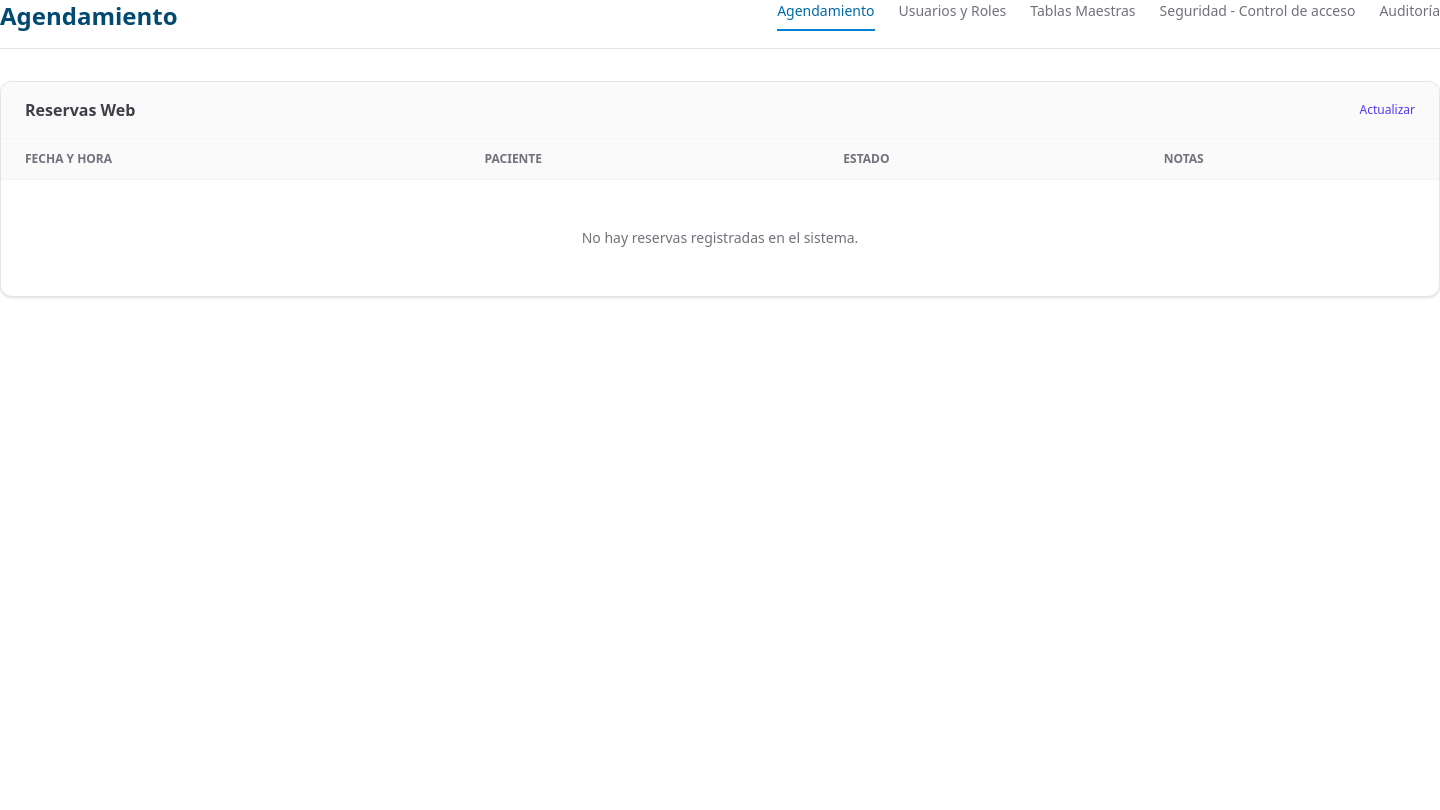
Scenario: DashboardContent - Password Validation › should validate password without uppercase
Click the button "Usuarios y Roles" at (952, 16), box [898, 1, 1006, 31]
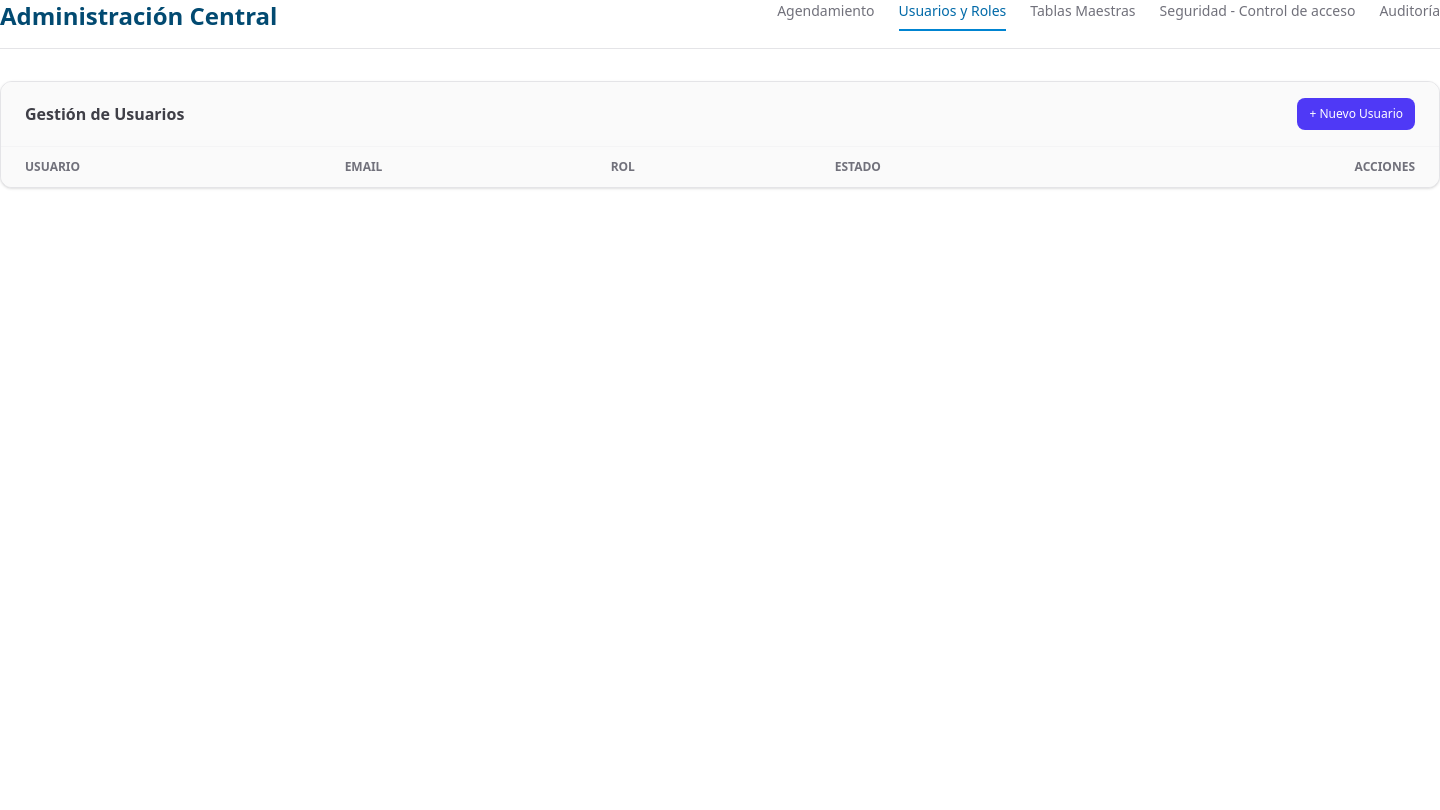
Click the button "+ Nuevo Usuario" at (1356, 114), box [1298, 98, 1415, 130]
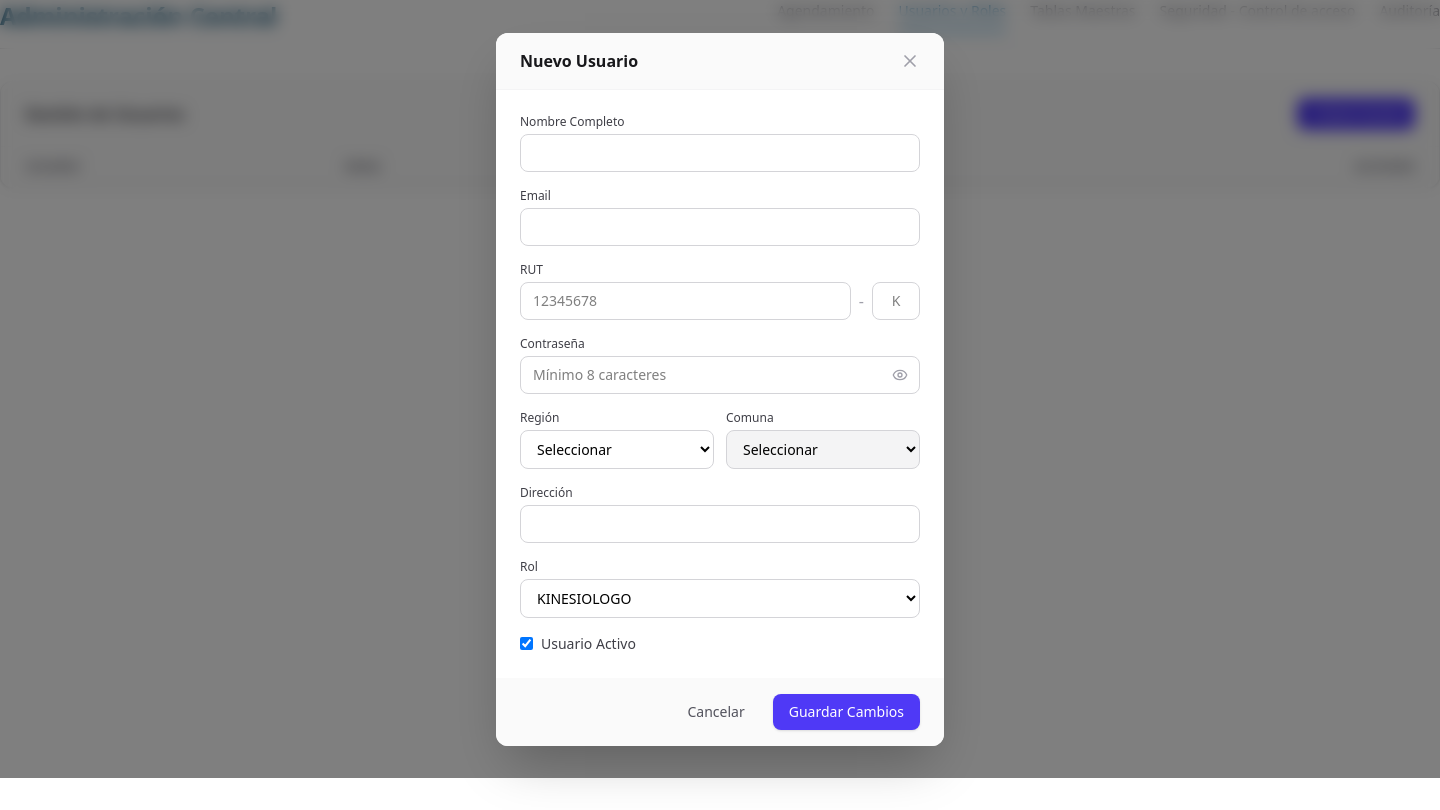
Type "testtest1!" into the password field labelled "Contraseña" at (720, 374), box [520, 356, 920, 394]
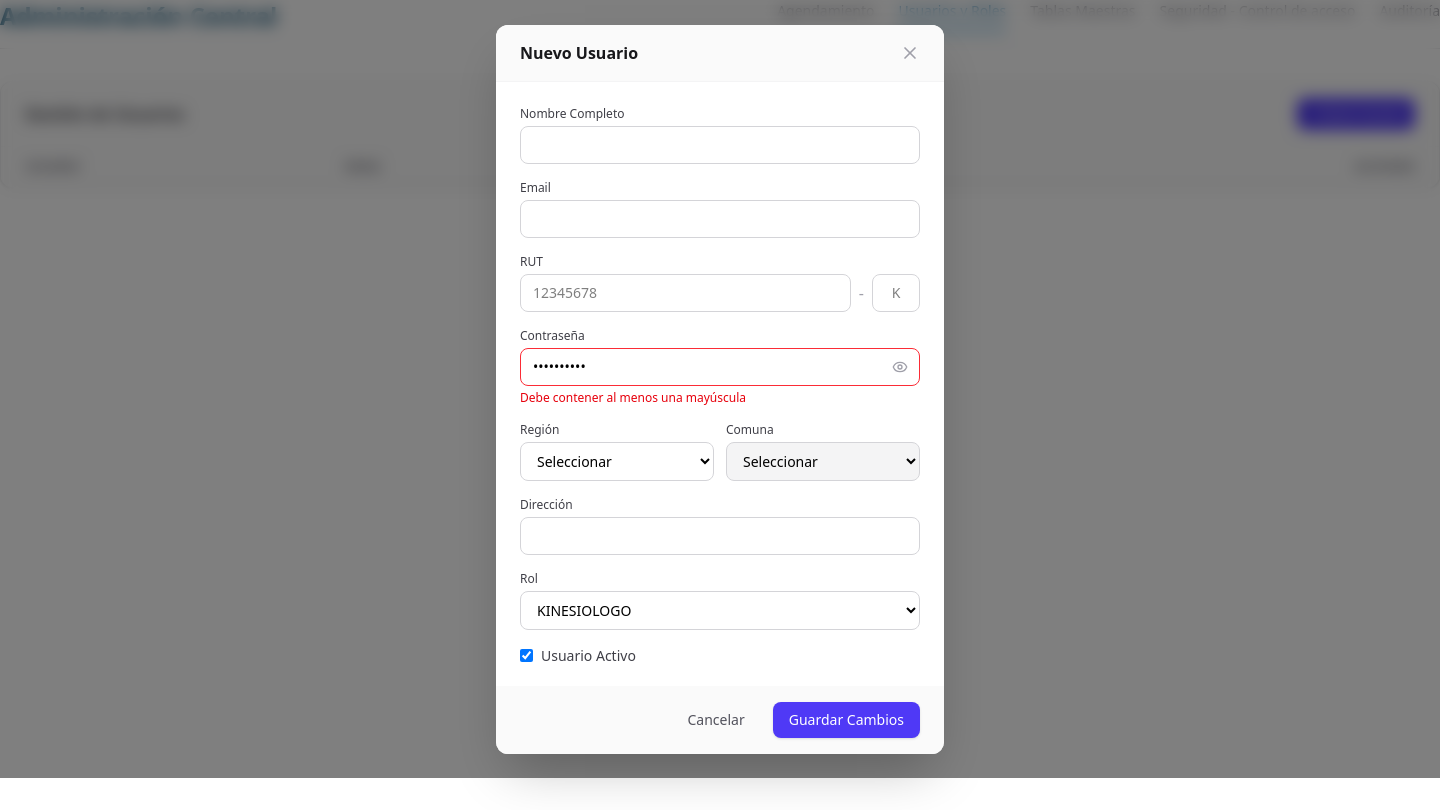
Check: the text "Debe contener al menos una mayúscula" is shown, box [520, 388, 746, 406]
